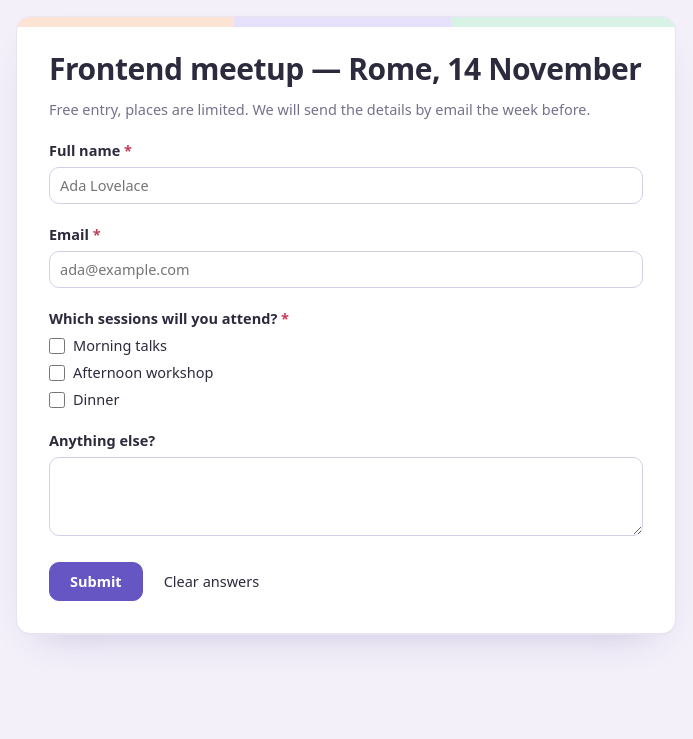
Test: Preview › blocks an incomplete submission and focuses the first problem
Click the button "Submit".
click(96, 582)  # box x1=49 y1=562 x2=143 y2=601
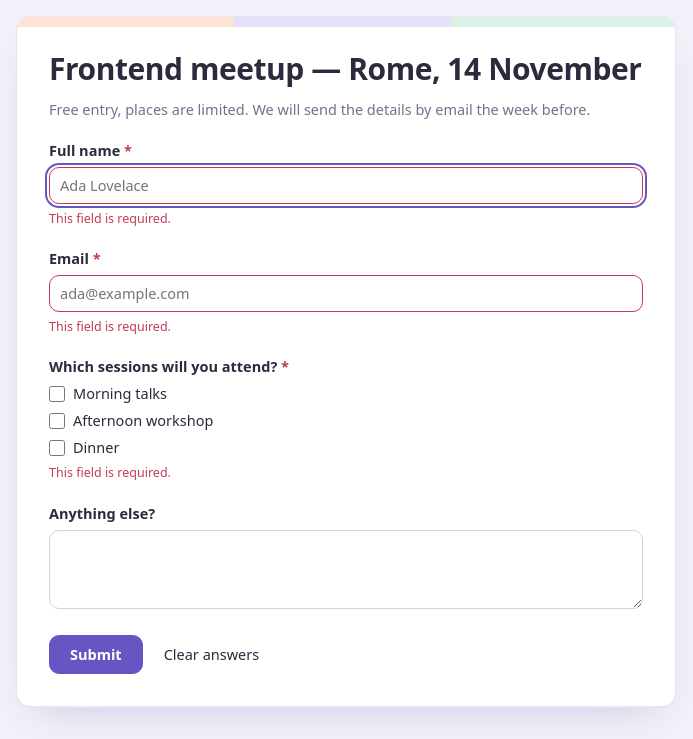
Result: the text "This field is required." is shown 3 times at x1=49 y1=210 x2=171 y2=227; x1=49 y1=318 x2=171 y2=335; x1=49 y1=464 x2=171 y2=481
